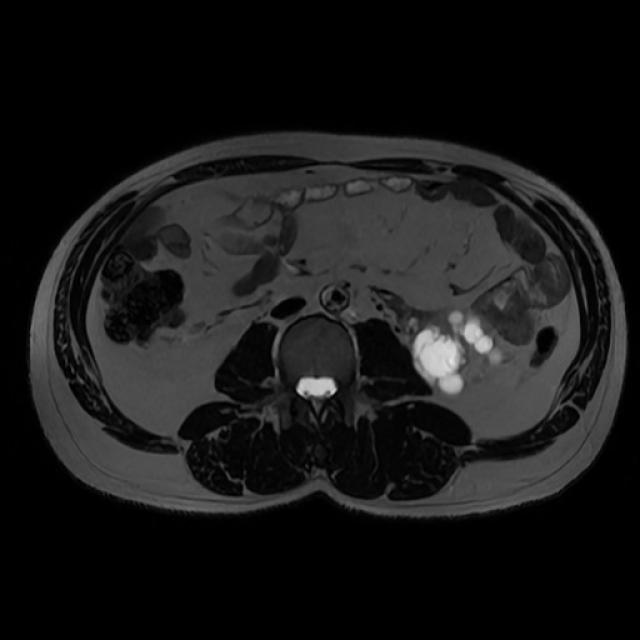sol: (413, 313, 504, 392)
